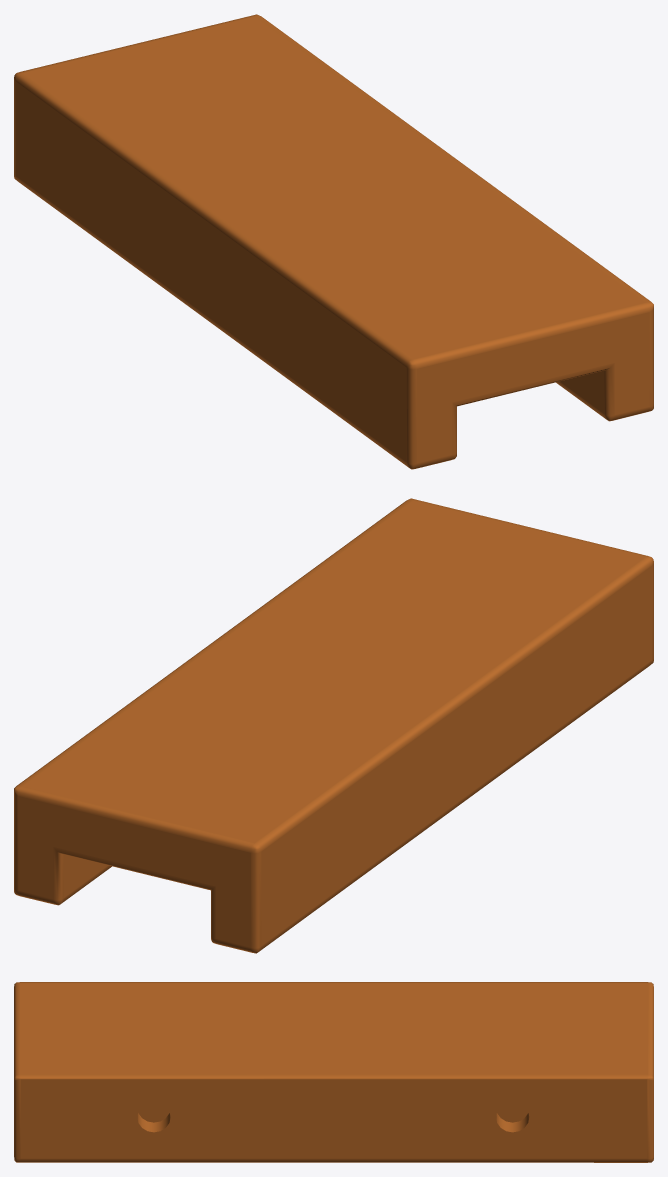
The model's file is Bottom_Left_Detail.fbx.
The picture shows the model from 3 angles, top to bottom: view 1: azimuth 30°, elevation 25°; view 2: azimuth 150°, elevation 25°; view 3: azimuth 270°, elevation 25°; orthographic projection. The views are drawn at different scales.
Parts seen in each view (by area): view 1: Bottom_Left_Detail; view 2: Bottom_Left_Detail; view 3: Bottom_Left_Detail.
Boxes of the visible parts, <box> form: Bottom_Left_Detail: <box>14,14,653,469</box>; Bottom_Left_Detail: <box>14,498,653,953</box>; Bottom_Left_Detail: <box>14,982,653,1162</box>.
Bounding box in the file's own units: 15 × 6.32 × 42.14.
